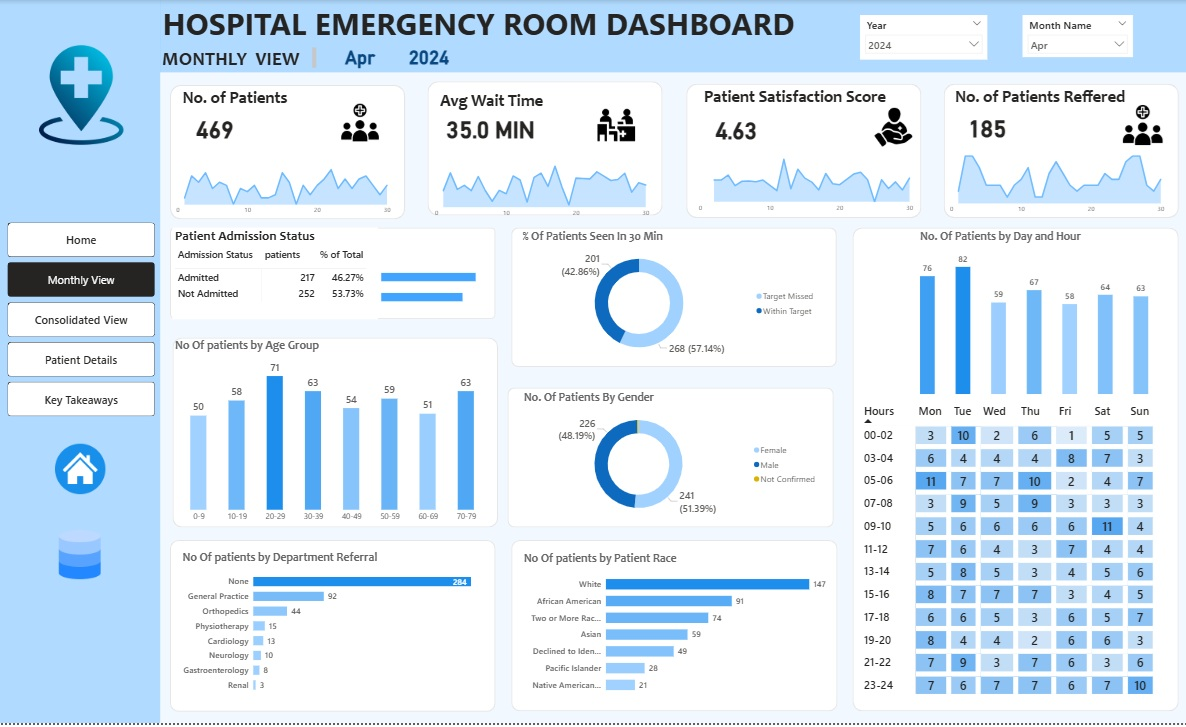

What the dashboard file says about the page in this screenshot:
{"tool":"powerbi","page":{"name":"Monthly View","canvas":[2300,1400],"ordinal":1},"visuals":[{"type":"shape","box":[0,0,310,1400],"z":0},{"type":"shape","box":[330,165,455,260],"z":1000},{"type":"shape","box":[310,0,1990,140],"z":2000},{"type":"textbox","box":[310,0,1277.5,87.5],"z":3000},{"type":"textbox","box":[310,87.5,307.5,52.5],"z":4000},{"type":"card","fields":{"Values":["Hospital ER_Data.No Of patients"]},"box":[347.5,202.5,135,87.5],"z":5000},{"type":"slicer","fields":{"Values":["Date Table.Year"]},"box":[1663.3,28.3,246.7,86.7],"z":6000},{"type":"slicer","fields":{"Values":["Date Table.Month Name"]},"box":[1978.3,28.3,213.3,81.7],"z":7000},{"type":"textbox","box":[347.5,165,270,52.5],"z":8000},{"type":"areaChart","fields":{"Category":["Date Table.Date.Variation.Date Hierarchy.Day"],"Y":["Hospital ER_Data.No Of patients"]},"box":[330,290,435,135],"z":9000},{"type":"card","fields":{"Values":["Min(Date Table.Month Name)"]},"box":[617.5,72.5,160,72.5],"z":10000},{"type":"card","fields":{"Values":["Min(Date Table.Year for name)"]},"box":[777.5,72.5,107.5,72.5],"z":11000},{"type":"shape","box":[828.4,156.3,455,260],"z":12000},{"type":"card","fields":{"Values":["Hospital ER_Data.Avg Wait Time"]},"box":[842.5,202.5,215,87.5],"z":13000},{"type":"textbox","box":[846.1,169.1,270,52.5],"z":14000},{"type":"areaChart","fields":{"Category":["Date Table.Date.Variation.Date Hierarchy.Day"],"Y":["Avg(Hospital ER_Data.Patient Waittime)"]},"box":[828.6,294.1,435,135],"z":15000},{"type":"shape","box":[1326.8,161.4,455,260],"z":16000},{"type":"card","fields":{"Values":["Hospital ER_Data.Satisfaction Score"]},"box":[1357.5,205,135,87.5],"z":17000},{"type":"textbox","box":[1357.5,162.5,387.5,52.5],"z":18000},{"type":"areaChart","fields":{"Category":["Date Table.Date.Variation.Date Hierarchy.Day"],"Y":["Hospital ER_Data.Satisfaction Score"]},"box":[1340.9,286.4,435,135],"z":19000},{"type":"shape","box":[1825.3,163.3,455,260],"z":20000},{"type":"card","fields":{"Values":["Hospital ER_Data.No of patients reffered"]},"box":[1842.5,200,135,87.5],"z":21000},{"type":"textbox","box":[1842.5,162.5,375,52.5],"z":22000},{"type":"areaChart","fields":{"Category":["Date Table.Date.Variation.Date Hierarchy.Day"],"Y":["Hospital ER_Data.No of patients reffered"]},"box":[1825.3,288.3,435,135],"z":23000},{"type":"shape","box":[330,440,630,177],"z":24000},{"type":"pivotTable","title":"Patient Admission Status","fields":{"Values":["Hospital ER_Data.No Of patients","Divide(Hospital ER_Data.No Of patients, ScopedEval(Hospital ER_Data.No Of patients, []))"],"Rows":["Hospital ER_Data.Admission Status"]},"box":[335,440,397.5,177.5],"z":25000},{"type":"barChart","fields":{"Category":["Hospital ER_Data.Admission Status"],"Y":["Hospital ER_Data.No Of patients"]},"box":[732.5,495,227.5,115],"z":26000},{"type":"shape","box":[335,652.5,630,367.5],"z":27000},{"type":"clusteredColumnChart","fields":{"Category":["Hospital ER_Data.Age Group"],"Y":["Hospital ER_Data.No Of patients"]},"box":[335,652.5,620,367.5],"z":28000},{"type":"shape","box":[330,1045,630,332.5],"z":29000},{"type":"clusteredBarChart","fields":{"Category":["Hospital ER_Data.Department Referral"],"Y":["Hospital ER_Data.No Of patients"]},"box":[347.5,1065,602.5,287.5],"z":30000},{"type":"shape","box":[990,440,630,270],"z":31000},{"type":"donutChart","title":"% Of Patients Seen In 30 Min","fields":{"Category":["Hospital ER_Data.Waittime Status"],"Y":["Hospital ER_Data.No Of patients"]},"box":[1006,442,582,260],"z":32000},{"type":"shape","box":[982,749.8,631.3,270.9],"z":33000},{"type":"donutChart","title":"No. Of Patients By Gender","fields":{"Y":["Hospital ER_Data.No Of patients"],"Category":["Hospital ER_Data.Patient Gender"]},"box":[1008.6,754.7,582.9,258.8],"z":34000},{"type":"shape","box":[989.3,1044.9,631.3,331.4],"z":35000},{"type":"clusteredBarChart","fields":{"Y":["Hospital ER_Data.No Of patients"],"Category":["Hospital ER_Data.Patient Race"]},"box":[1008.6,1066.7,602.3,287.8],"z":36000},{"type":"shape","box":[1649.6,440.2,631.3,936.1],"z":37000},{"type":"pivotTable","fields":{"Rows":["Hospital ER_Data.Waittime Interval"],"Columns":["Date Table.Day Name"],"Values":["Hospital ER_Data.No Of patients"]},"box":[1662.5,775,605,585],"z":38000},{"type":"columnChart","title":"No. Of Patients by Day and Hour","fields":{"Category":["Date Table.Day Name"],"Y":["Hospital ER_Data.No Of patients"]},"box":[1776,442,454,326],"z":39000},{"type":"image","box":[56.7,83.3,203.3,203.3],"z":40000},{"type":"image","box":[652.5,195,87.5,82.5],"z":41000},{"type":"image","box":[1150,200,87.5,82.5],"z":42000},{"type":"image","box":[2162.5,197.5,97.5,87.5],"z":43000},{"type":"image","box":[1680,197.5,95,95],"z":44000},{"type":"pageNavigator","box":[15,430,285,377.5],"z":45000},{"type":"image","box":[102.5,855,107.5,107.5],"z":46000},{"type":"image","box":[95,1020,120,105],"z":47000}]}

Visuals, with their boxes in screenshot pixels (x1, y1, x2, y2), scaled from the page's 2300x1400 canvas onto the 1186x727 screenshot:
shape: 0,0,160,726
shape: 170,86,405,221
shape: 160,0,1185,73
textbox: 160,0,819,45
textbox: 160,45,318,73
card - Hospital ER_Data.No Of patients: 179,105,249,151
slicer - Date Table.Year: 858,15,985,60
slicer - Date Table.Month Name: 1020,15,1130,57
textbox: 179,86,318,113
areaChart - Date Table.Date.Variation.Date Hierarchy.Day x Hospital ER_Data.No Of patients: 170,151,394,221
card - Min(Date Table.Month Name): 318,38,401,75
card - Min(Date Table.Year for name): 401,38,456,75
shape: 427,81,662,216
card - Hospital ER_Data.Avg Wait Time: 434,105,545,151
textbox: 436,88,576,115
areaChart - Date Table.Date.Variation.Date Hierarchy.Day x Avg(Hospital ER_Data.Patient Waittime): 427,153,652,223
shape: 684,84,919,219
card - Hospital ER_Data.Satisfaction Score: 700,106,770,152
textbox: 700,84,900,112
areaChart - Date Table.Date.Variation.Date Hierarchy.Day x Hospital ER_Data.Satisfaction Score: 691,149,916,219
shape: 941,85,1176,220
card - Hospital ER_Data.No of patients reffered: 950,104,1020,149
textbox: 950,84,1143,112
areaChart - Date Table.Date.Variation.Date Hierarchy.Day x Hospital ER_Data.No of patients reffered: 941,150,1166,220
shape: 170,228,495,320
"Patient Admission Status" pivotTable: 173,228,378,321
barChart - Hospital ER_Data.Admission Status x Hospital ER_Data.No Of patients: 378,257,495,317
shape: 173,339,498,530
clusteredColumnChart - Hospital ER_Data.Age Group x Hospital ER_Data.No Of patients: 173,339,492,530
shape: 170,543,495,715
clusteredBarChart - Hospital ER_Data.Department Referral x Hospital ER_Data.No Of patients: 179,553,490,702
shape: 510,228,835,369
"% Of Patients Seen In 30 Min" donutChart: 519,230,819,365
shape: 506,389,832,530
"No. Of Patients By Gender" donutChart: 520,392,821,526
shape: 510,543,836,715
clusteredBarChart - Hospital ER_Data.No Of patients x Hospital ER_Data.Patient Race: 520,554,831,703
shape: 851,229,1176,715
pivotTable - Hospital ER_Data.Waittime Interval x Date Table.Day Name: 857,402,1169,706
"No. Of Patients by Day and Hour" columnChart: 916,230,1150,399
image: 29,43,134,149
image: 336,101,382,144
image: 593,104,638,147
image: 1115,103,1165,148
image: 866,103,915,152
pageNavigator: 8,223,155,419
image: 53,444,108,500
image: 49,530,111,584
